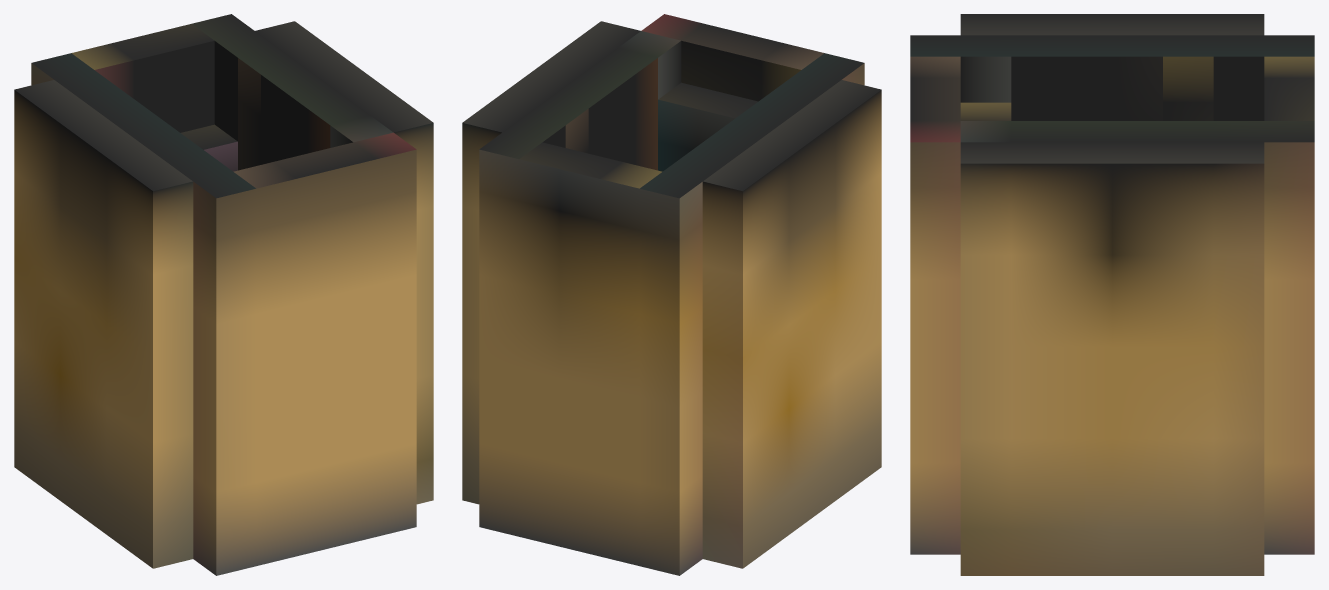
File: BinYellow_00.fbx
3 views of the same model, side by side, from view 1: azimuth 30°, elevation 25°; view 2: azimuth 150°, elevation 25°; view 3: azimuth 270°, elevation 25° (orthographic). The views are drawn at different scales.
Visible parts, largest first — view 1: BinYellow_00; view 2: BinYellow_00; view 3: BinYellow_00.
Boxes of the visible parts, left/top/right/bottom form: BinYellow_00: left=14, top=14, right=433, bottom=575; BinYellow_00: left=462, top=14, right=881, bottom=575; BinYellow_00: left=910, top=14, right=1314, bottom=575.
Size of the model in its own units: 35 by 40 by 45.
1 material, 1 textured.
